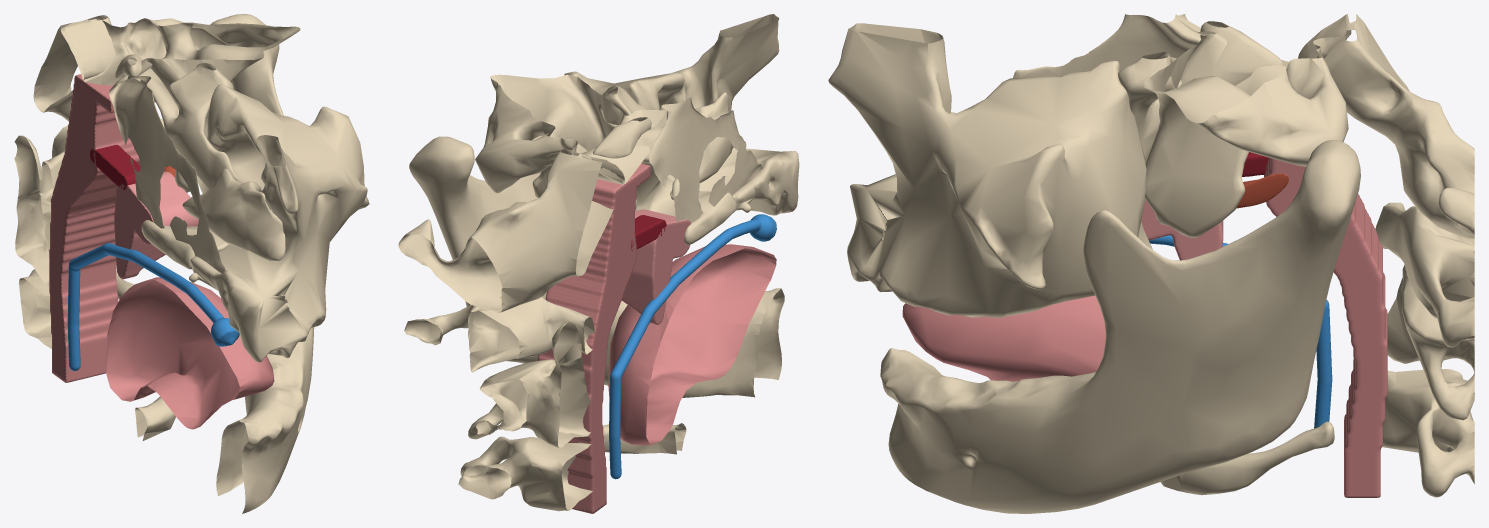
Rendered from flap-cut.glb.
3 views of the same model, side by side, from view 1: azimuth 30°, elevation 25°; view 2: azimuth 150°, elevation 25°; view 3: azimuth 270°, elevation 25° (orthographic). The views are drawn at different scales.
Visible parts, largest first — view 1: bone (×11), tongue, mucosa, air, soft, flap; view 2: bone (×11), tongue, mucosa, air, soft, flap; view 3: bone (×10), mucosa, tongue, air, soft, muscle.
Boxes of the visible parts, box(x1,y1,x2,y2) form: bone (×11): box(14, 14, 369, 513); tongue: box(106, 277, 274, 429); mucosa: box(49, 74, 155, 382); air: box(67, 243, 239, 370); soft: box(114, 171, 198, 279); flap: box(89, 144, 140, 190); bone (×11): box(398, 14, 799, 511); tongue: box(608, 244, 776, 445); mucosa: box(537, 163, 650, 513); air: box(609, 214, 776, 479); soft: box(621, 209, 691, 324); flap: box(630, 215, 666, 250); bone (×10): box(828, 14, 1474, 513); mucosa: box(1264, 157, 1387, 497); tongue: box(902, 295, 1105, 381); air: box(1149, 235, 1332, 428); soft: box(1141, 199, 1223, 260); muscle: box(1236, 173, 1288, 208).
Bounding box in the file's own units: 55.62 × 87 × 113.
